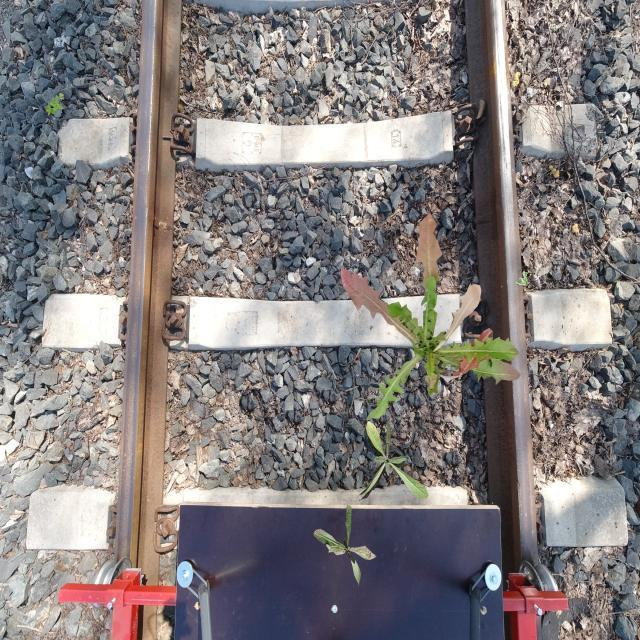Plant: (341, 212, 521, 420), (357, 420, 428, 501), (313, 504, 377, 588), (45, 92, 64, 116), (516, 270, 530, 286)
